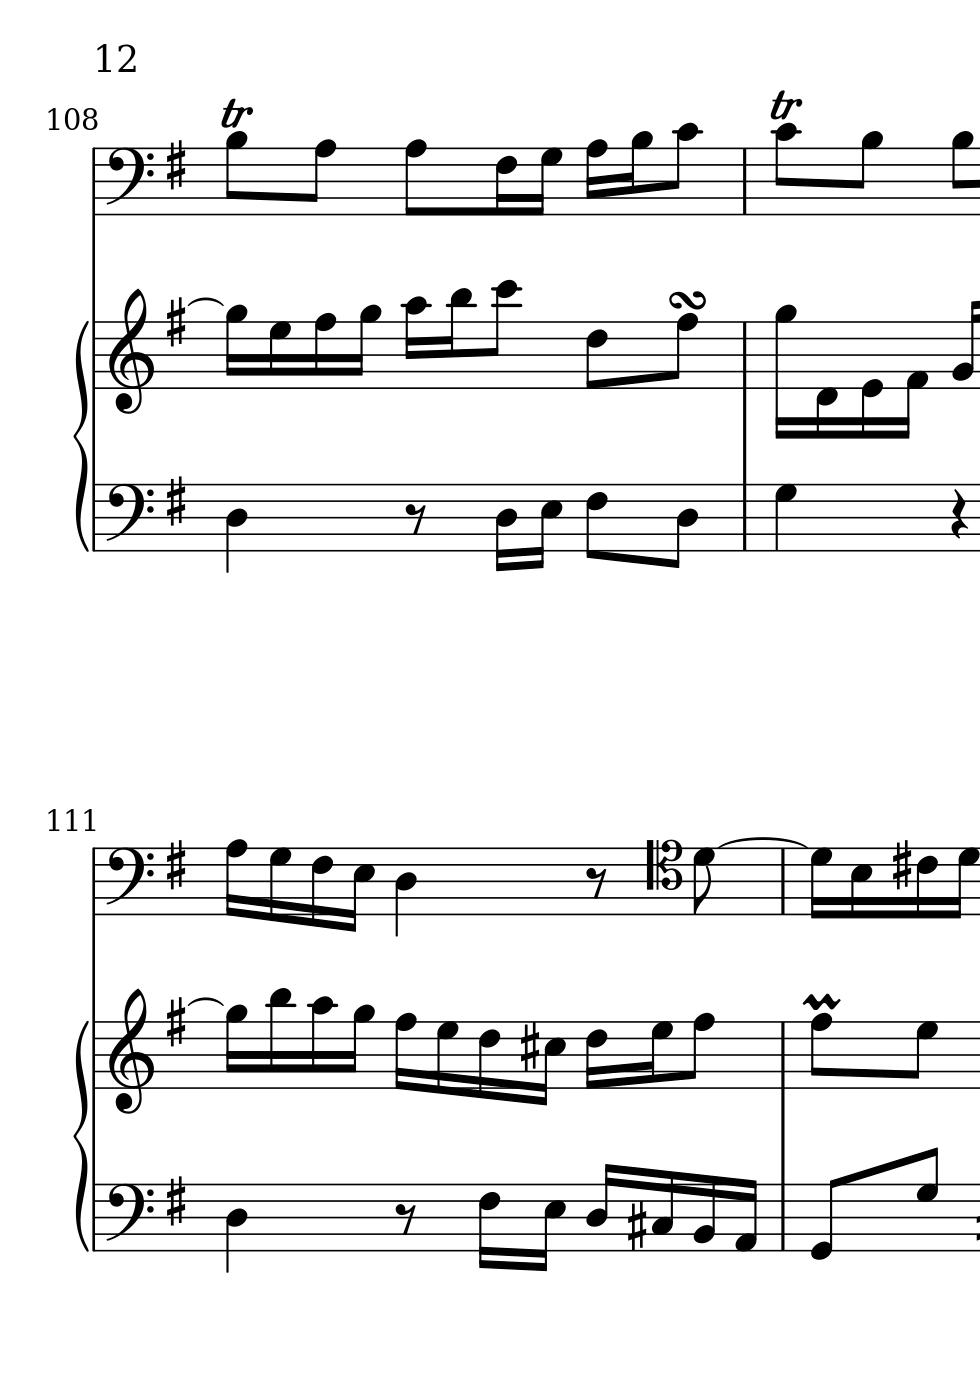0: (62, 106, 80, 133)
1: (95, 42, 111, 75), (45, 806, 62, 836), (81, 806, 97, 836), (46, 105, 62, 134), (63, 807, 78, 835)
16_-1: (813, 316, 838, 443)
16_0: (859, 318, 883, 441)
16_1: (898, 317, 929, 439), (732, 1177, 757, 1255)
16_10: (307, 994, 336, 1091), (400, 295, 430, 391)
16_11: (440, 288, 475, 392), (266, 987, 295, 1091)
16_2: (950, 298, 977, 391), (692, 1173, 717, 1253)
16_3: (650, 1169, 675, 1252)
16_4: (584, 1162, 616, 1252), (493, 483, 518, 573)
16_5: (533, 1182, 566, 1273), (531, 483, 563, 571), (344, 846, 375, 934), (536, 1019, 566, 1106), (848, 846, 874, 922)
16_6: (476, 1181, 502, 1271), (309, 845, 333, 930), (476, 1018, 501, 1102), (493, 145, 518, 218), (583, 1019, 607, 1091), (914, 846, 937, 922)
16_7: (640, 1018, 672, 1091), (531, 146, 563, 218), (948, 845, 978, 920), (433, 1018, 458, 1099), (266, 845, 291, 927), (265, 318, 291, 392), (808, 845, 832, 923)
16_8: (311, 312, 337, 391), (222, 838, 247, 919), (392, 1011, 417, 1093), (583, 139, 608, 217)
16_9: (772, 304, 797, 439), (622, 130, 653, 218), (350, 303, 382, 391), (345, 1003, 374, 1091), (222, 304, 247, 391), (223, 1003, 247, 1091)
2: (115, 42, 138, 74)
4_4: (224, 483, 248, 574), (224, 1183, 248, 1273), (393, 846, 417, 938)
4_7: (773, 483, 798, 552)
8: (81, 106, 99, 133)
8_0: (808, 1175, 843, 1262)
8_10: (667, 123, 700, 218), (771, 122, 800, 218)
8_12: (483, 278, 521, 390)
8_4: (663, 483, 700, 571)
8_6: (584, 483, 608, 562), (584, 320, 609, 391)
8_7: (914, 1146, 939, 1255), (906, 1020, 937, 1090), (690, 846, 715, 916)
8_8: (681, 1011, 714, 1091), (303, 138, 336, 217), (665, 312, 698, 390), (402, 137, 428, 217), (808, 1012, 833, 1091)
8_9: (850, 130, 883, 218), (948, 129, 974, 217), (223, 130, 248, 216)
Brace: (70, 1015, 89, 1258), (71, 320, 90, 552)
Fclef: (101, 481, 154, 552), (103, 146, 155, 218), (102, 1181, 154, 1253), (102, 845, 154, 916)
Gclef: (106, 288, 154, 416), (106, 988, 154, 1116)
Rests4: (949, 487, 967, 541)
Rests8: (403, 502, 427, 536), (584, 865, 608, 900), (393, 1201, 417, 1236)
Sharp: (163, 138, 189, 194), (889, 839, 913, 892), (517, 1020, 541, 1073), (163, 838, 187, 893), (163, 474, 187, 528), (164, 296, 187, 349), (164, 996, 187, 1049), (164, 1175, 187, 1228), (625, 1200, 647, 1252)
ShortTrill: (801, 992, 841, 1011)
Single_barline: (735, 321, 754, 389), (735, 484, 754, 550), (735, 148, 754, 213), (774, 1185, 792, 1251), (774, 1022, 792, 1088), (774, 849, 792, 914), (86, 847, 101, 916), (86, 148, 101, 215), (88, 1022, 102, 1090), (88, 322, 101, 390), (89, 1185, 102, 1252), (89, 485, 101, 551)
Slur: (717, 836, 813, 848), (186, 996, 224, 1008), (186, 296, 224, 308)
Tensor_Cclef: (642, 837, 683, 915)
Trill: (766, 87, 803, 121), (218, 97, 253, 130)
Turn: (667, 288, 707, 311)
